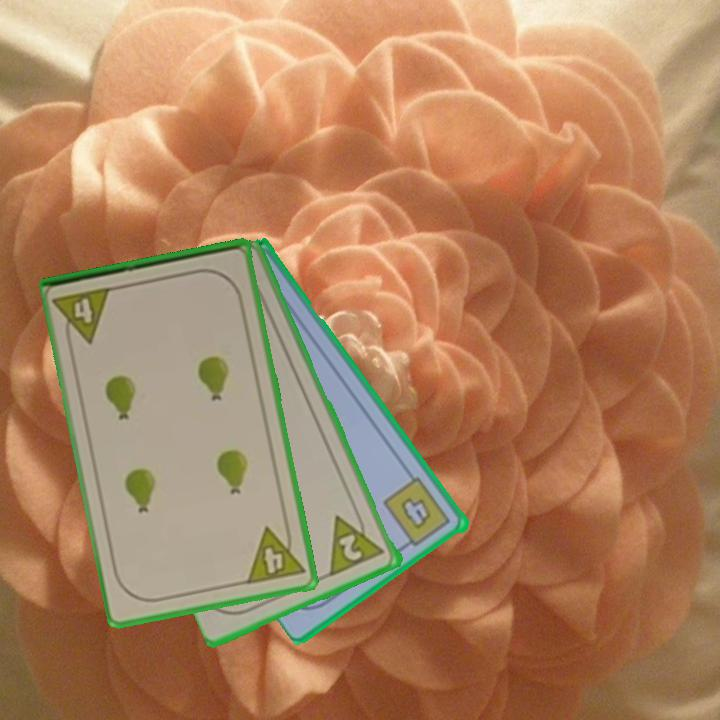2p: (336, 530, 366, 564)
4b: (380, 474, 455, 553)
4p: (243, 520, 308, 587), (51, 283, 116, 349)
